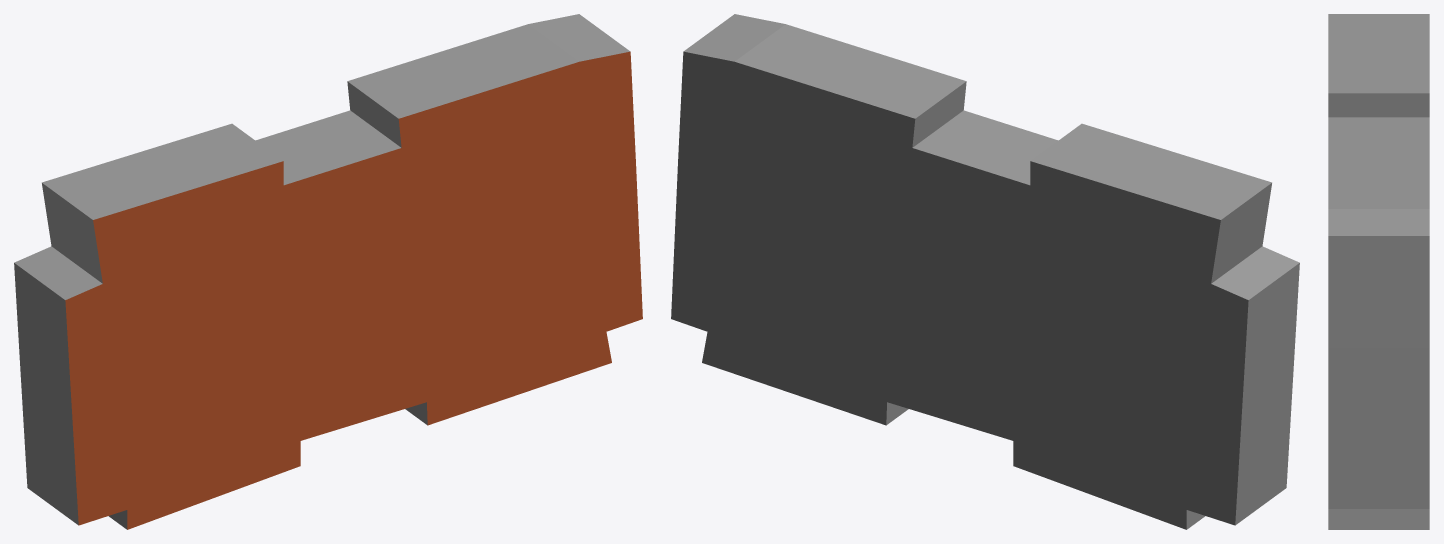
Rendered from construction_5932_assumed_A_Casa_h6m.obj.
The picture shows the model from 3 angles, left to right: view 1: azimuth 30°, elevation 25°; view 2: azimuth 150°, elevation 25°; view 3: azimuth 270°, elevation 25°; orthographic projection.
Parts seen in each view (by area): view 1: construction_5932_assumed_A_Casa; view 2: construction_5932_assumed_A_Casa; view 3: construction_5932_assumed_A_Casa.
Boxes of the visible parts, x1,y1,x2,y2 form: construction_5932_assumed_A_Casa: (14,14,642,529); construction_5932_assumed_A_Casa: (671,14,1299,529); construction_5932_assumed_A_Casa: (1328,14,1429,529).
Bounding box in the file's own units: 38.96 × 23.07 × 6.
